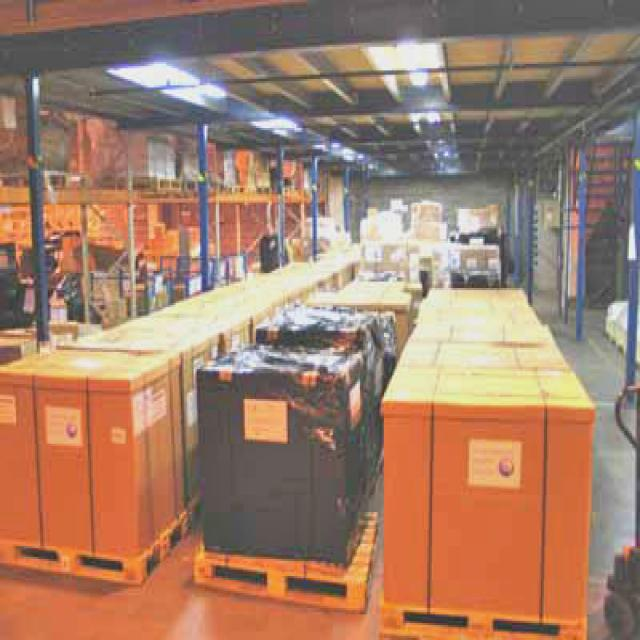box: (384, 365, 590, 640), (2, 348, 180, 580), (202, 346, 369, 556), (458, 205, 501, 236), (412, 199, 443, 219)
